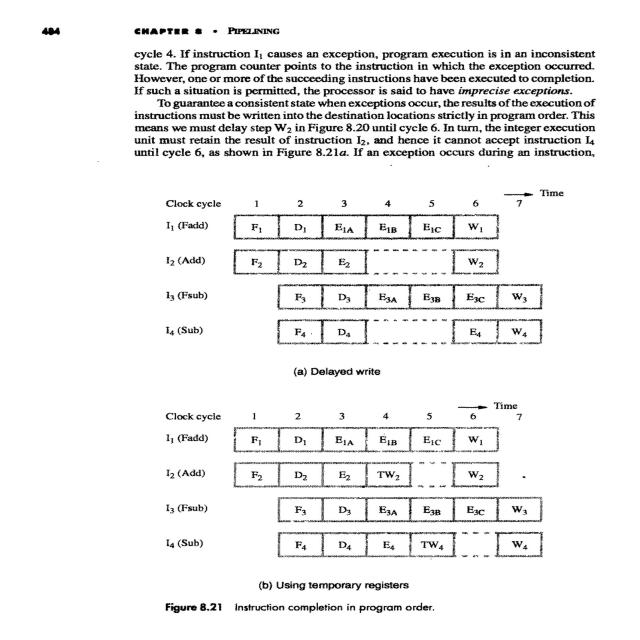diagram: (110, 162, 603, 626)
